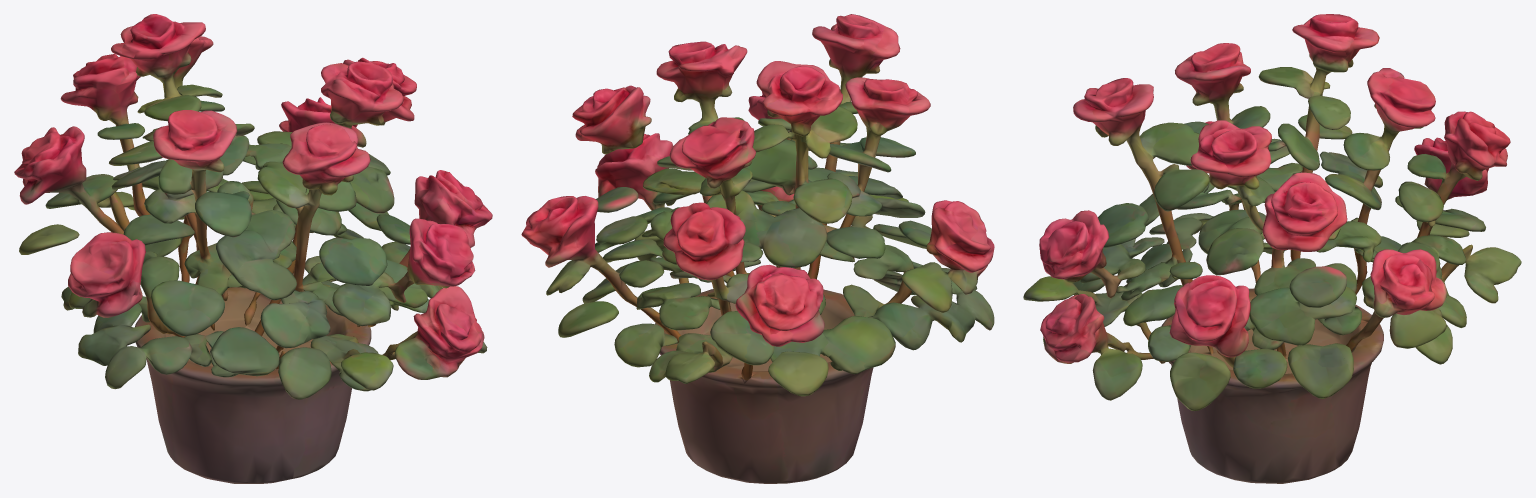
File: rose_bush.glb
The picture shows the model from 3 angles, left to right: view 1: azimuth 30°, elevation 25°; view 2: azimuth 150°, elevation 25°; view 3: azimuth 270°, elevation 25°; orthographic projection. The views are drawn at different scales.
Parts seen in each view (by area): view 1: tripo_node_ecbf959d-4128-488d-b4c7-76dbb200b487; view 2: tripo_node_ecbf959d-4128-488d-b4c7-76dbb200b487; view 3: tripo_node_ecbf959d-4128-488d-b4c7-76dbb200b487.
Boxes of the visible parts, x1=… form: tripo_node_ecbf959d-4128-488d-b4c7-76dbb200b487: x1=14, y1=14, x2=492, y2=483; tripo_node_ecbf959d-4128-488d-b4c7-76dbb200b487: x1=521, y1=14, x2=994, y2=483; tripo_node_ecbf959d-4128-488d-b4c7-76dbb200b487: x1=1023, y1=14, x2=1521, y2=483.
Size of the model in its own units: 0.8326 by 0.8328 by 0.9261.
1 material, 1 textured.
